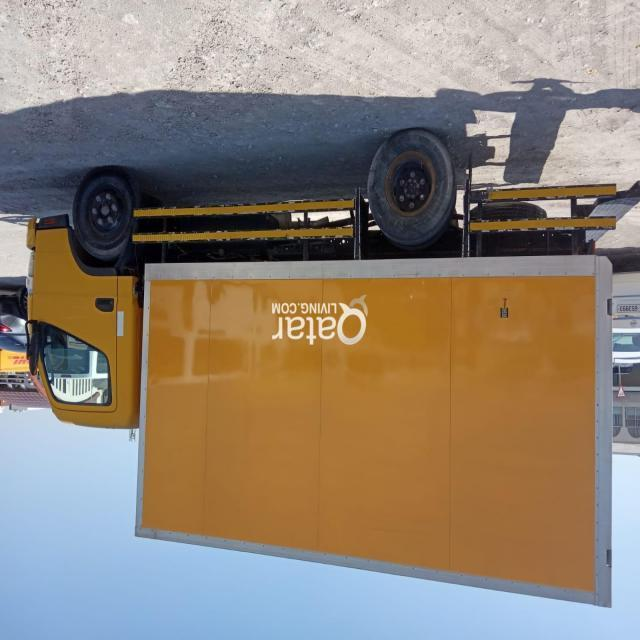truck: (25, 127, 614, 610)
